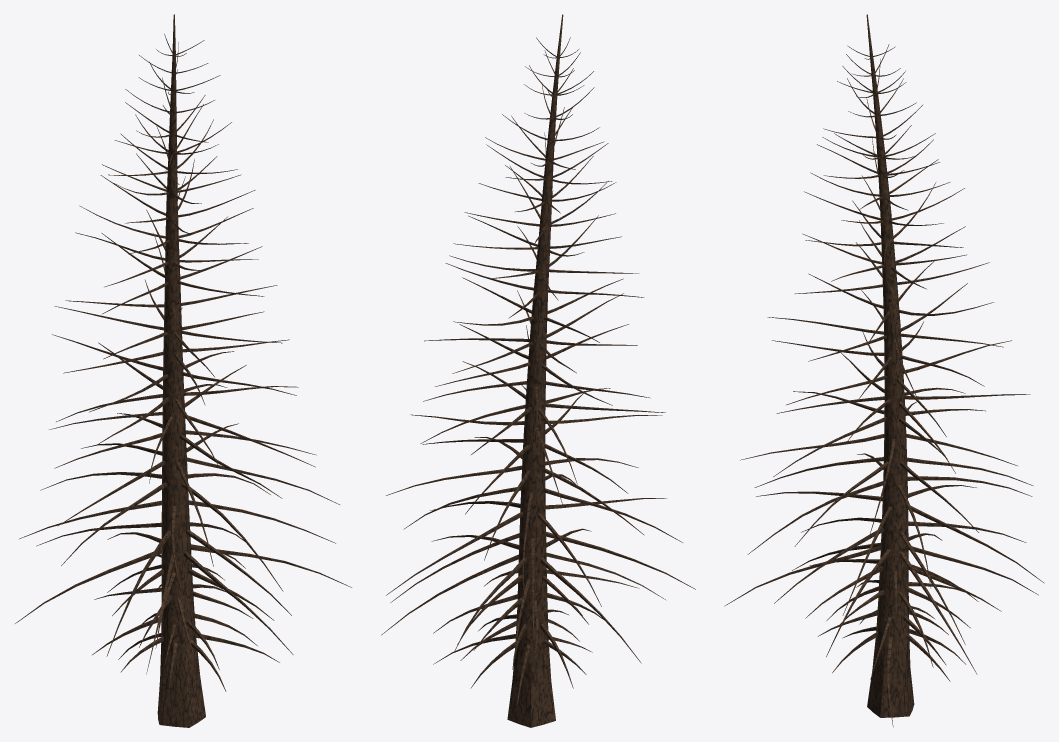
Rendered from SM_Tree_Pine_A_Bark.glb.
The picture shows the model from 3 angles, left to right: view 1: azimuth 30°, elevation 25°; view 2: azimuth 150°, elevation 25°; view 3: azimuth 270°, elevation 25°; orthographic projection. The views are drawn at different scales.
Parts seen in each view (by area): view 1: SM_Tree_Pine_A_Bark; view 2: SM_Tree_Pine_A_Bark; view 3: SM_Tree_Pine_A_Bark.
Boxes of the visible parts, left/top/right/bottom form: SM_Tree_Pine_A_Bark: left=15, top=14, right=351, bottom=727; SM_Tree_Pine_A_Bark: left=381, top=14, right=695, bottom=727; SM_Tree_Pine_A_Bark: left=724, top=14, right=1044, bottom=727.
Bounding box in the file's own units: 6.06 × 15 × 6.34.
Materials: 1 (1 with a texture image).
